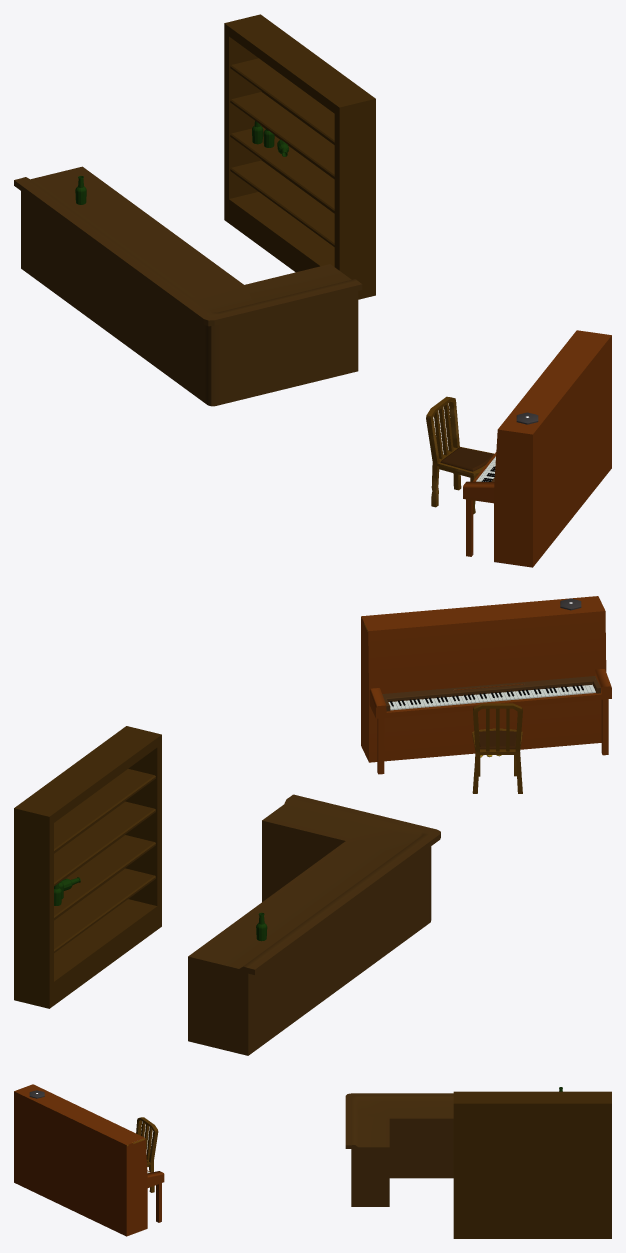
File: interior.fbx
3 views of the same model, one above another, from view 1: azimuth 30°, elevation 25°; view 2: azimuth 150°, elevation 25°; view 3: azimuth 270°, elevation 25° (orthographic). The views are drawn at different scales.
Parts seen in each view (by area): view 1: pCube5, pCube13, PIANO_3D_asset:polySurface5, chair_3d1:initialShadingGrouppolySurface18; view 2: pCube5, PIANO_3D_asset:polySurface5, pCube13, chair_3d1:initialShadingGrouppolySurface18; view 3: pCube13, PIANO_3D_asset:polySurface5, pCube5, chair_3d1:initialShadingGrouppolySurface18.
Boxes of the visible parts, <box> form: pCube5: <box>14,166,362,406</box>; pCube13: <box>224,14,375,299</box>; PIANO_3D_asset:polySurface5: <box>463,330,611,567</box>; chair_3d1:initialShadingGrouppolySurface18: <box>426,396,494,514</box>; pCube5: <box>188,794,440,1055</box>; PIANO_3D_asset:polySurface5: <box>361,596,611,774</box>; pCube13: <box>14,726,161,1008</box>; chair_3d1:initialShadingGrouppolySurface18: <box>472,703,522,793</box>; pCube13: <box>453,1091,611,1238</box>; PIANO_3D_asset:polySurface5: <box>14,1084,164,1236</box>; pCube5: <box>345,1093,453,1206</box>; chair_3d1:initialShadingGrouppolySurface18: <box>136,1117,158,1192</box>.
Bounding box in the file's own units: 273 × 208 × 834.
Materials: 8 (3 with a texture image).
